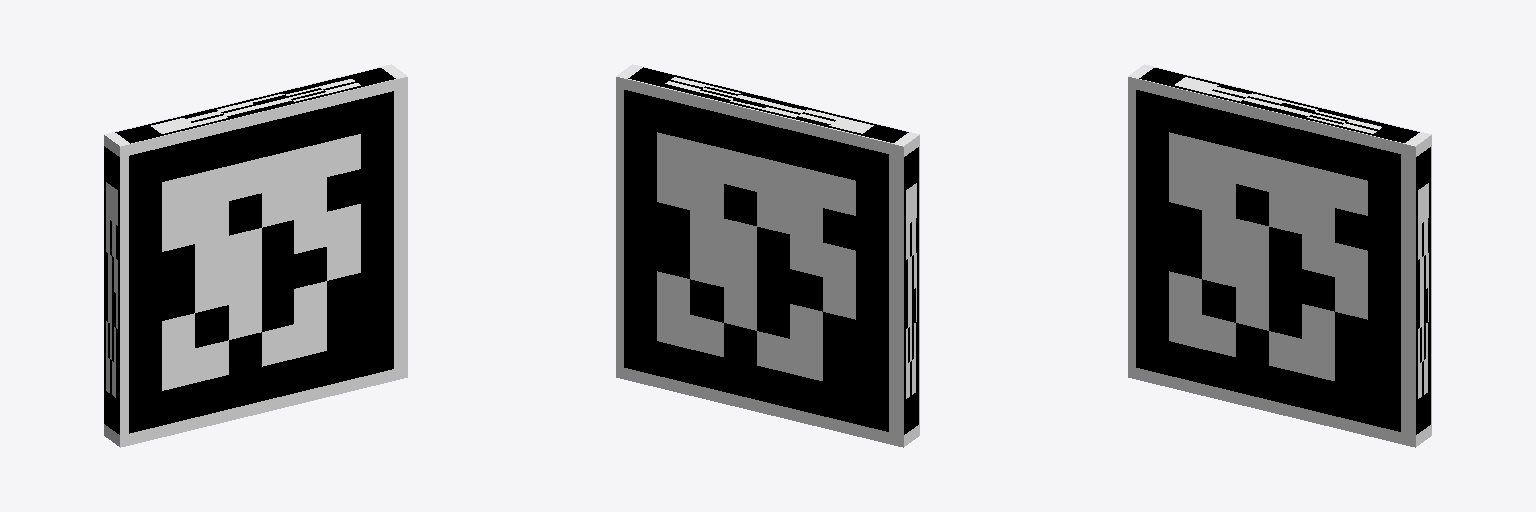
The picture shows the model from 3 angles: view 1: azimuth 30°, elevation 25°; view 2: azimuth 150°, elevation 25°; view 3: azimuth 330°, elevation 25°; orthographic projection.
Visible parts, largest first — view 1: Cube; view 2: Cube; view 3: Cube.
Part boxes in pixels (x1,y1,x2,y2): Cube: (104,64,407,447); Cube: (616,64,919,447); Cube: (1128,64,1431,447).
Size of the model in its own units: 2 by 2 by 0.2.
Materials: 1 (1 with a texture image).